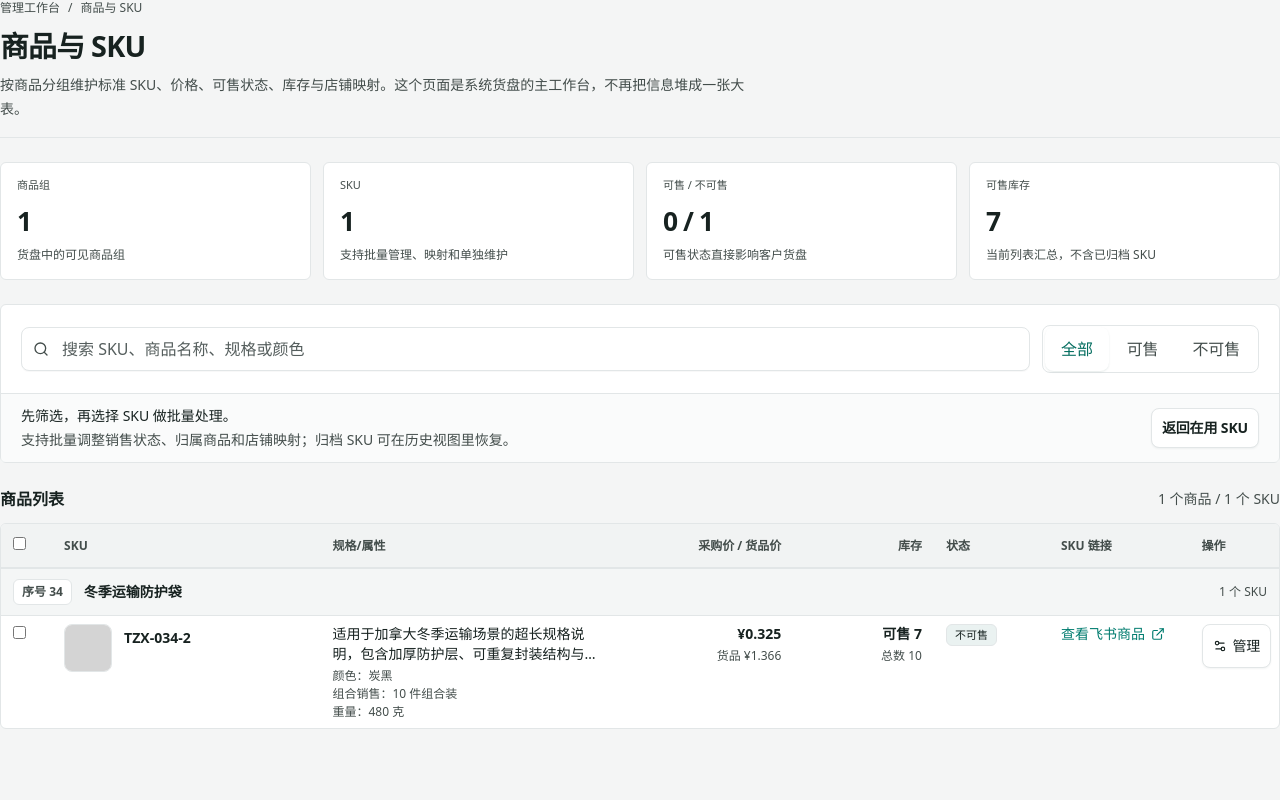
Test case: catalog workspaces › lets administrators restore an archived SKU without exposing active-only operations
What coordinates should you click on to do the following:
click the button "管理"
I would click on:
 (1236, 646)
Its box is [1202, 624, 1271, 668].
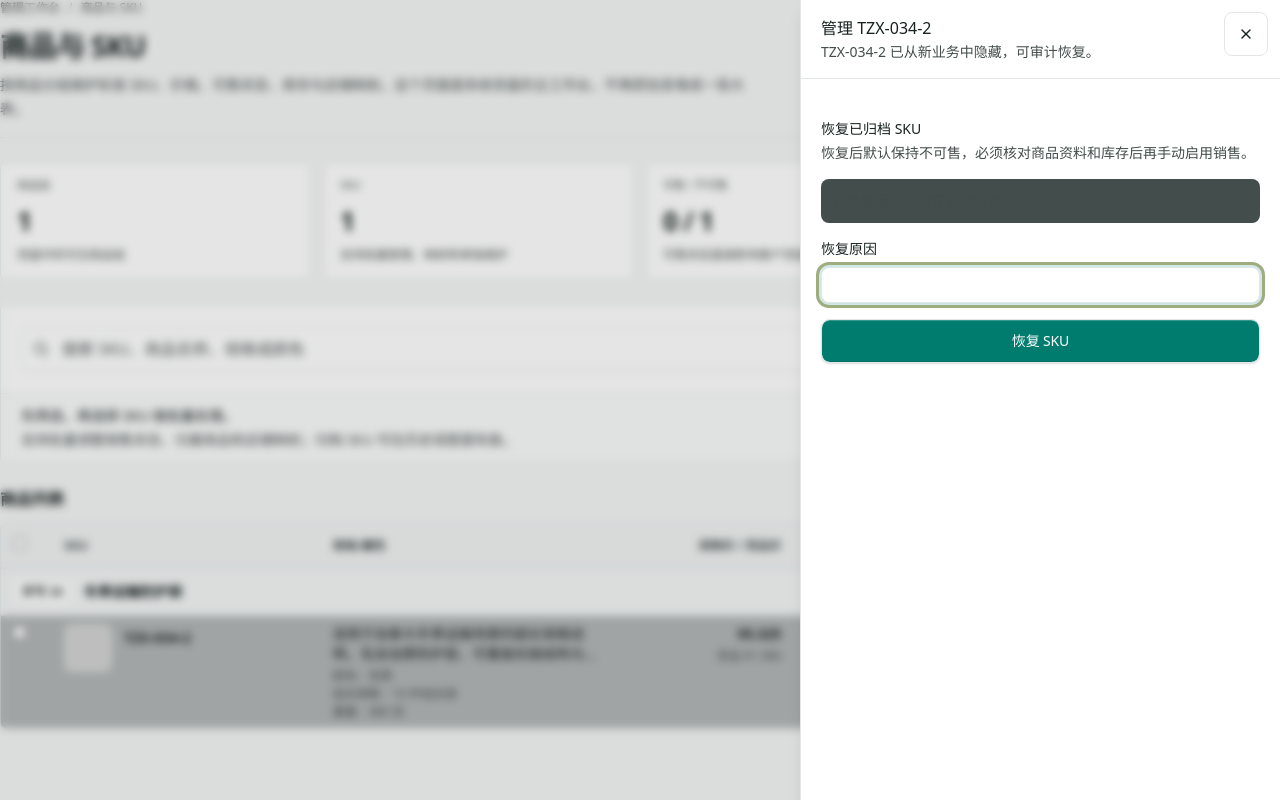
expect the text "归档原因：历史订单已结束" is shown: met, box [821, 179, 1260, 223]
expect the field labelled "恢复原因" is shown: met, box [821, 267, 1260, 303]
expect the button "恢复 SKU" is shown: met, box [821, 319, 1260, 363]
